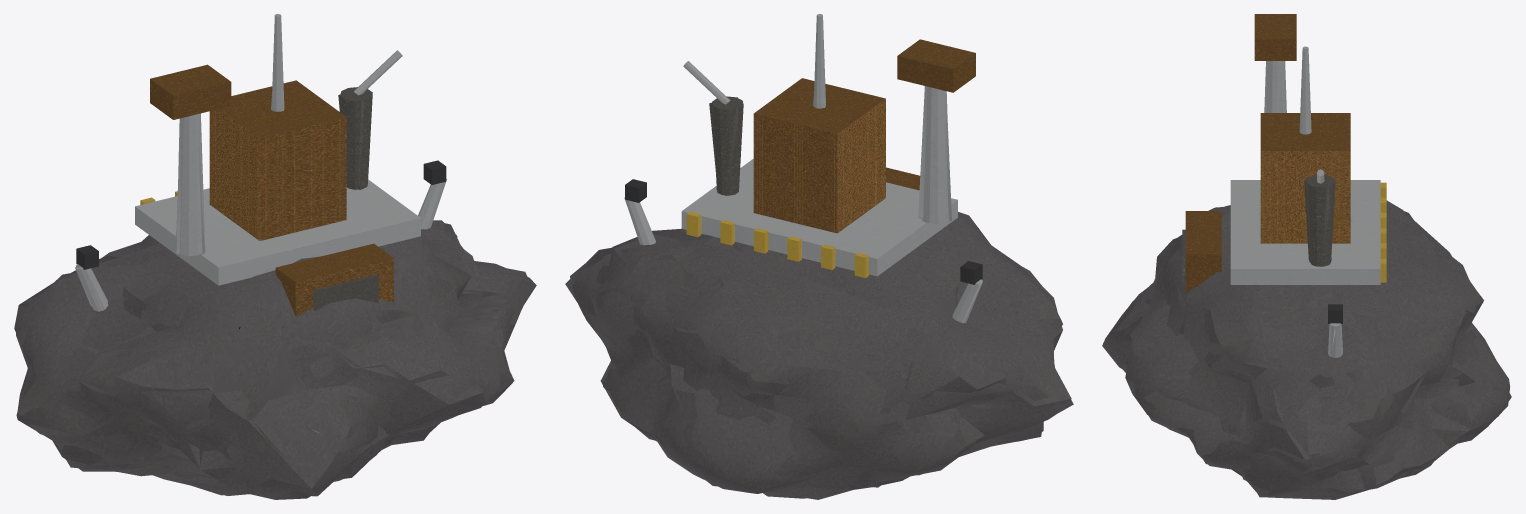
The model's file is sd_prop_lair3.glb.
3 renders of one model, left to right at view 1: azimuth 30°, elevation 25°; view 2: azimuth 150°, elevation 25°; view 3: azimuth 270°, elevation 25°, orthographic. The views are drawn at different scales.
Visible parts, largest first — view 1: LOD0_body, LOD1_body; view 2: LOD0_body, LOD1_body; view 3: LOD0_body, LOD1_body.
Boxes of the visible parts, left/top/right/bottom form: LOD0_body: left=14, top=14, right=536, bottom=499; LOD1_body: left=16, top=89, right=527, bottom=496; LOD0_body: left=570, top=14, right=1071, bottom=498; LOD1_body: left=565, top=86, right=1073, bottom=499; LOD0_body: left=1102, top=14, right=1509, bottom=498; LOD1_body: left=1108, top=61, right=1511, bottom=499.
Size of the model in its own units: 1 by 0.8502 by 0.7616.
1 material, 1 textured.
